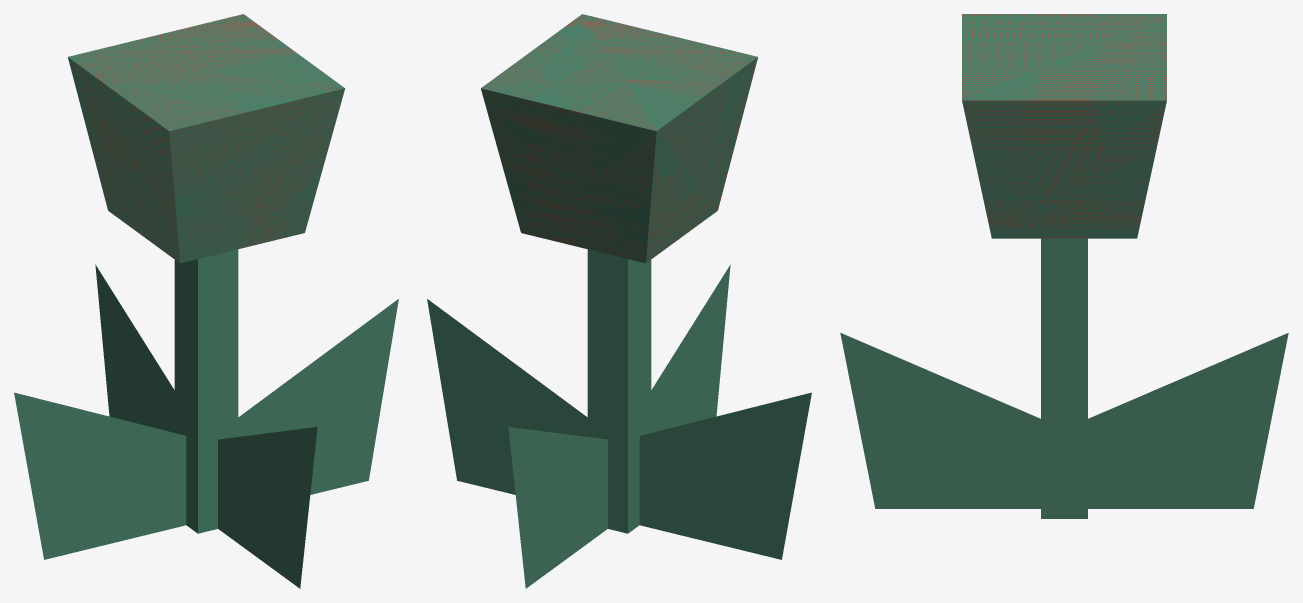
The model's file is naturePack_flat_011.fbx.
3 views of the same model, side by side, from view 1: azimuth 30°, elevation 25°; view 2: azimuth 150°, elevation 25°; view 3: azimuth 270°, elevation 25° (orthographic).
Parts seen in each view (by area): view 1: Mesh1_Flower_Tall_Red Model, Mesh5_Flower_Tall_Red Model, Mesh2_Flower_Tall_Red Model, Mesh4_Flower_Tall_Red Model, Mesh3_Flower_Tall_Red Model; view 2: Mesh1_Flower_Tall_Red Model, Mesh5_Flower_Tall_Red Model, Mesh2_Flower_Tall_Red Model, Mesh3_Flower_Tall_Red Model, Mesh4_Flower_Tall_Red Model; view 3: Mesh1_Flower_Tall_Red Model, Mesh3_Flower_Tall_Red Model, Mesh4_Flower_Tall_Red Model.
Boxes of the visible parts, box(x1,y1,x2,y2) form: Mesh1_Flower_Tall_Red Model: box(68, 14, 344, 533); Mesh5_Flower_Tall_Red Model: box(14, 392, 186, 559); Mesh2_Flower_Tall_Red Model: box(238, 299, 398, 494); Mesh4_Flower_Tall_Red Model: box(218, 427, 317, 588); Mesh3_Flower_Tall_Red Model: box(95, 264, 174, 432); Mesh1_Flower_Tall_Red Model: box(481, 14, 757, 533); Mesh5_Flower_Tall_Red Model: box(639, 392, 811, 559); Mesh2_Flower_Tall_Red Model: box(427, 299, 587, 494); Mesh3_Flower_Tall_Red Model: box(508, 427, 607, 588); Mesh4_Flower_Tall_Red Model: box(651, 264, 730, 432); Mesh1_Flower_Tall_Red Model: box(962, 14, 1166, 518); Mesh3_Flower_Tall_Red Model: box(1088, 333, 1288, 508); Mesh4_Flower_Tall_Red Model: box(840, 333, 1040, 508).
Bounding box in the file's own units: 0.4859 × 0.54 × 0.4859.
